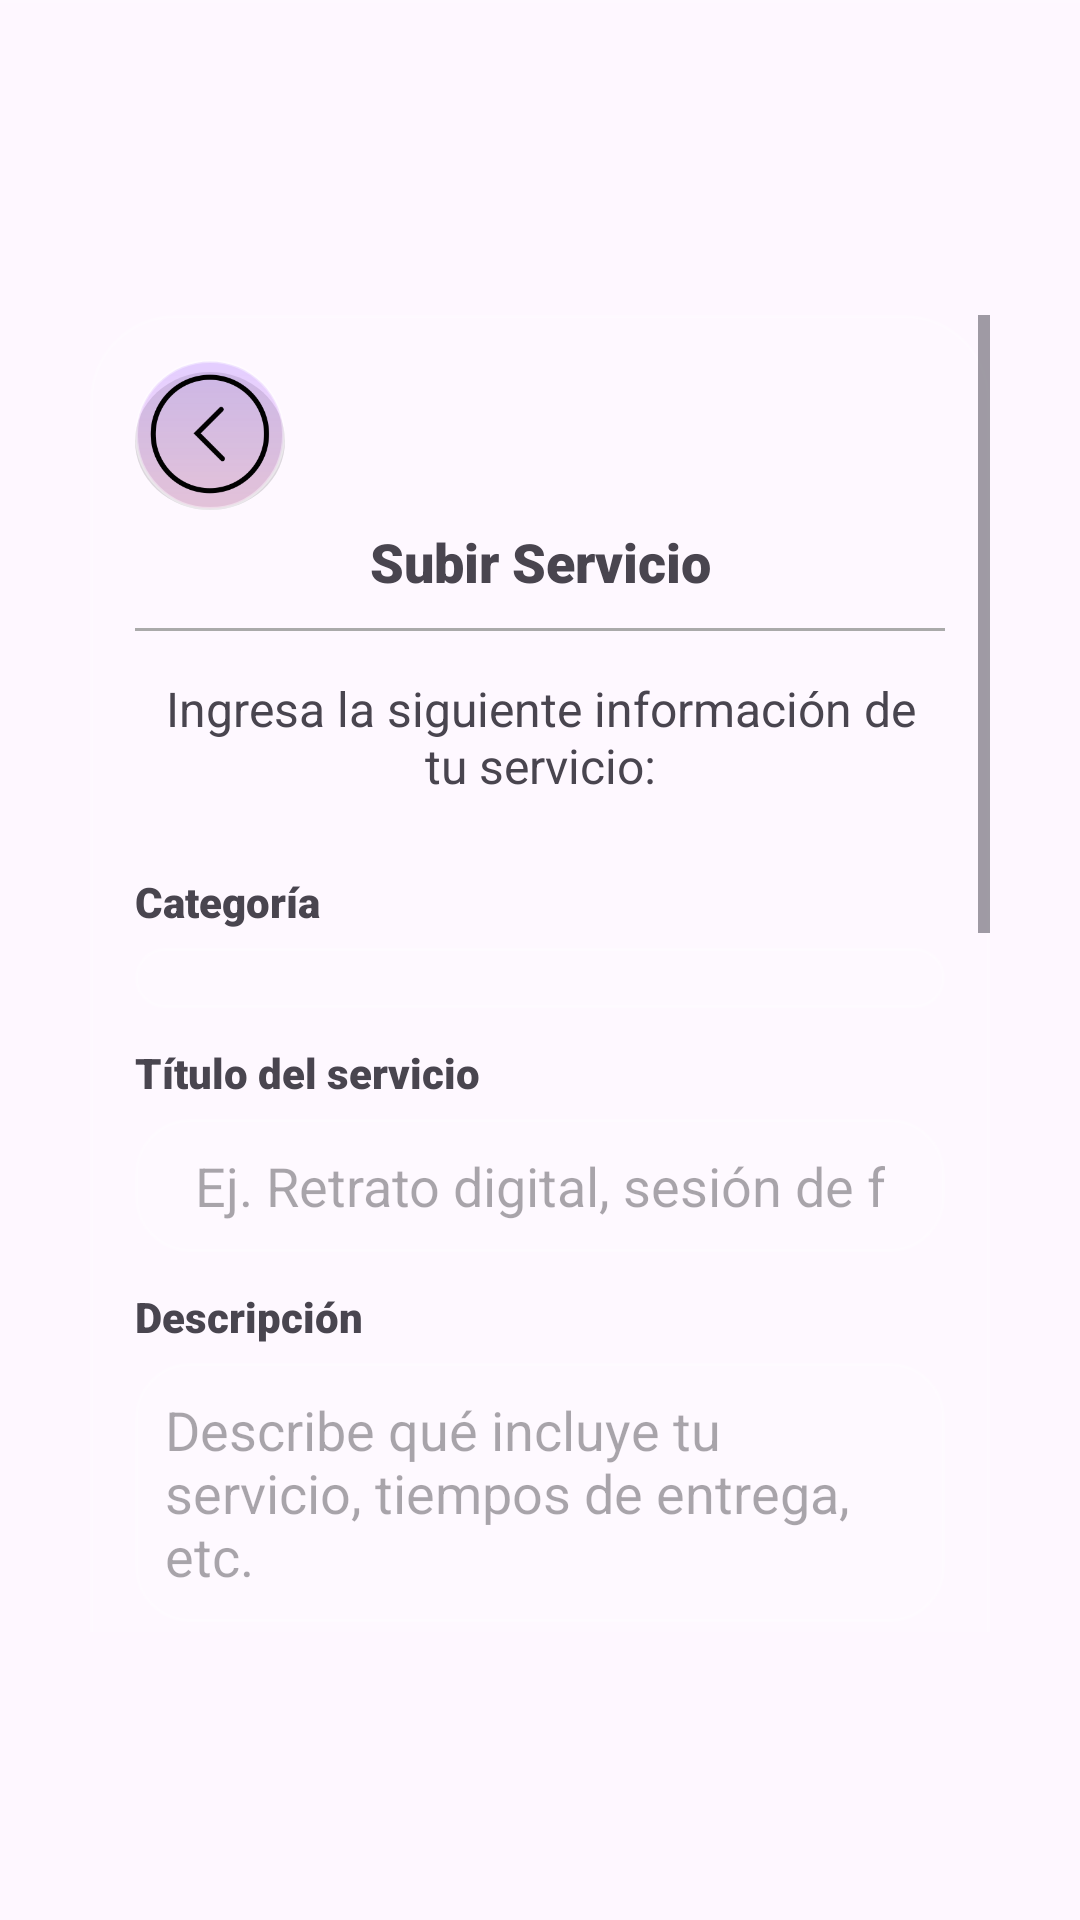

Icon click points for this 1080px×1920px phone screenshot, format point (x, y):
regresarimg: point (210, 435)
